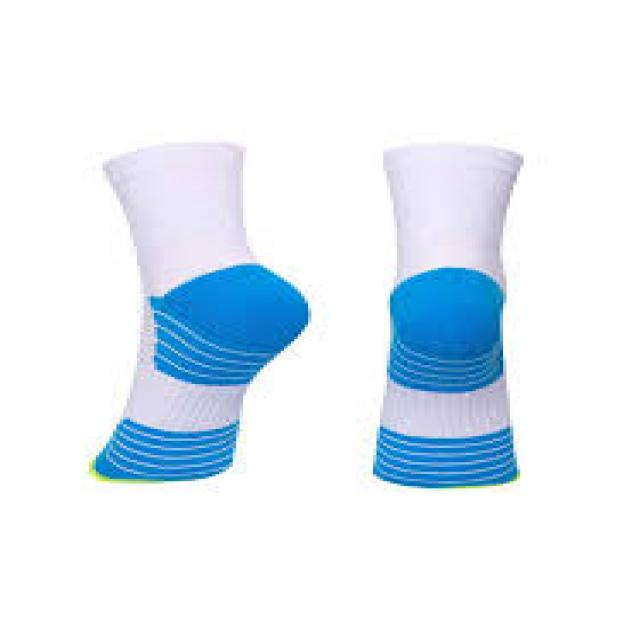sock: (86, 138, 312, 481), (369, 138, 524, 488)
